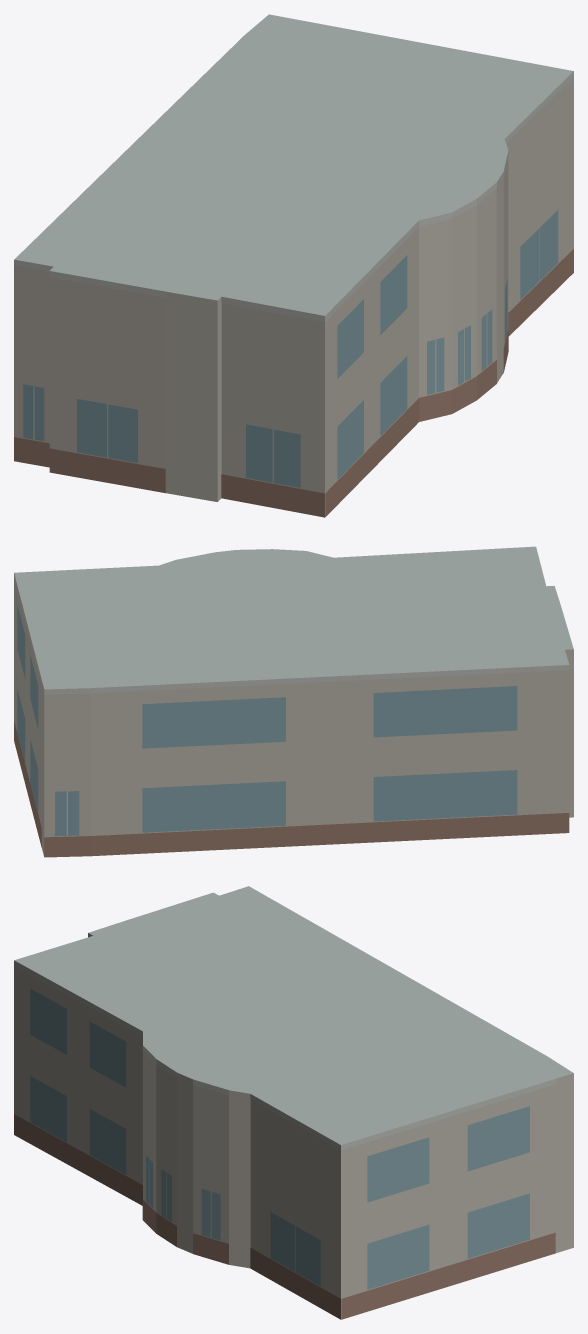
File: survey-upis-32469588.glb
3 views of the same model, one above another, from view 1: azimuth 30°, elevation 25°; view 2: azimuth 150°, elevation 25°; view 3: azimuth 270°, elevation 25° (orthographic). The views are drawn at different scales.
Visible parts, largest first — view 1: survey-upis-32469588.tmp; view 2: survey-upis-32469588.tmp; view 3: survey-upis-32469588.tmp.
Part boxes in pixels (box(x1,y1,x2,y2)): survey-upis-32469588.tmp: box(14, 14, 573, 517); survey-upis-32469588.tmp: box(14, 546, 573, 857); survey-upis-32469588.tmp: box(14, 886, 573, 1319).
Size of the model in its own units: 25.15 by 7.9 by 22.96.
